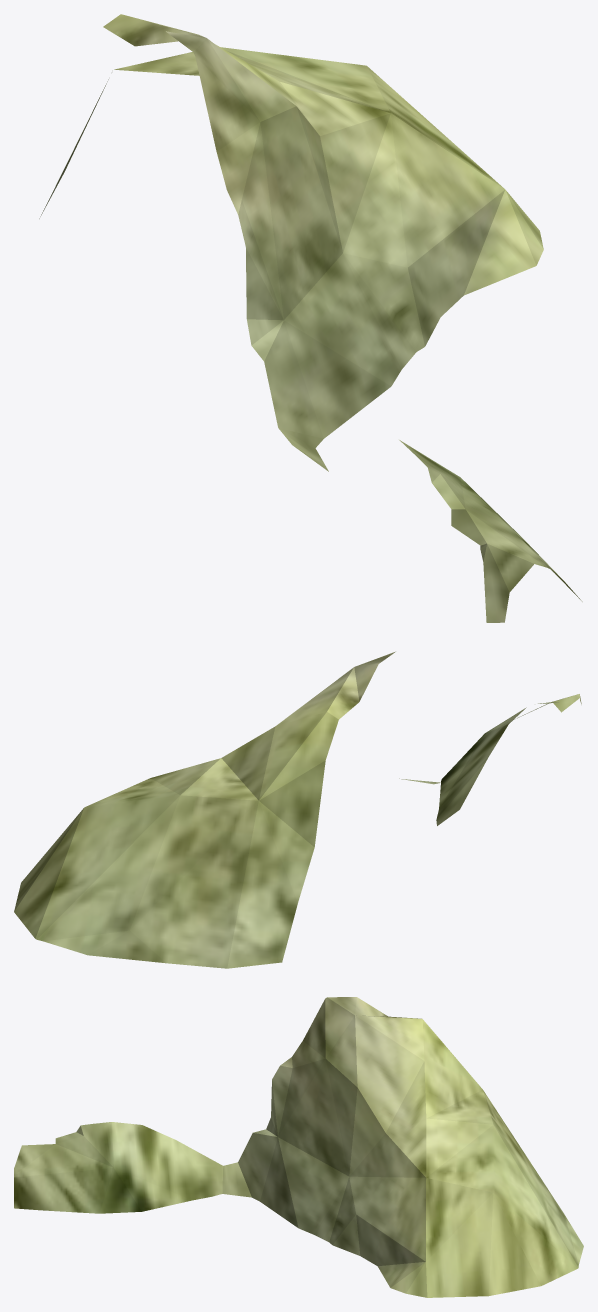
The picture shows the model from 3 angles, top to bottom: view 1: azimuth 30°, elevation 25°; view 2: azimuth 150°, elevation 25°; view 3: azimuth 270°, elevation 25°; orthographic projection. The views are drawn at different scales.
Size of the model in its own units: 1.23 by 0.951 by 2.62.
1 material, 1 textured.
